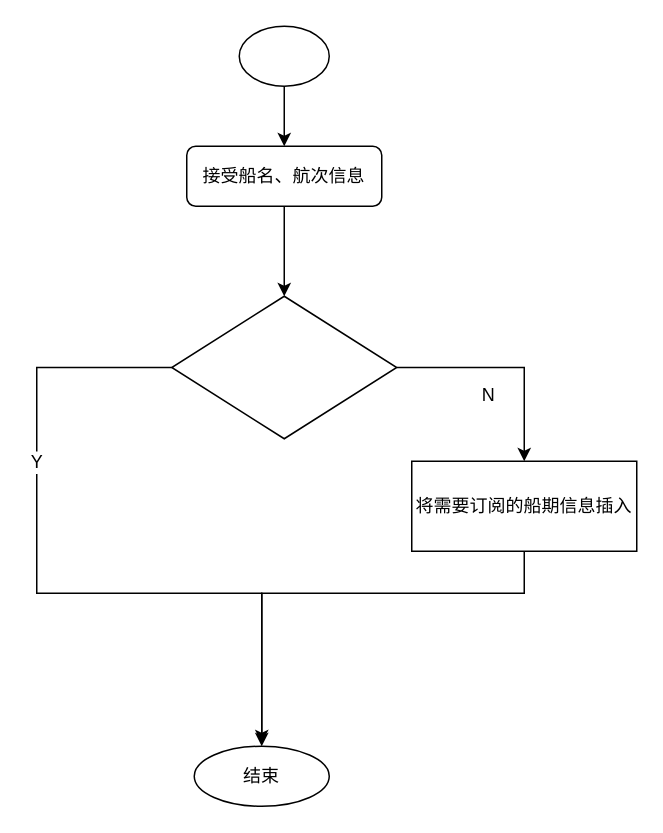
Image size: 663x833. Some labels were removed from this diagram. Each missing label, with the centre of its shape:
开始: the point at 283,55
是否已经订阅: the point at 283,367
